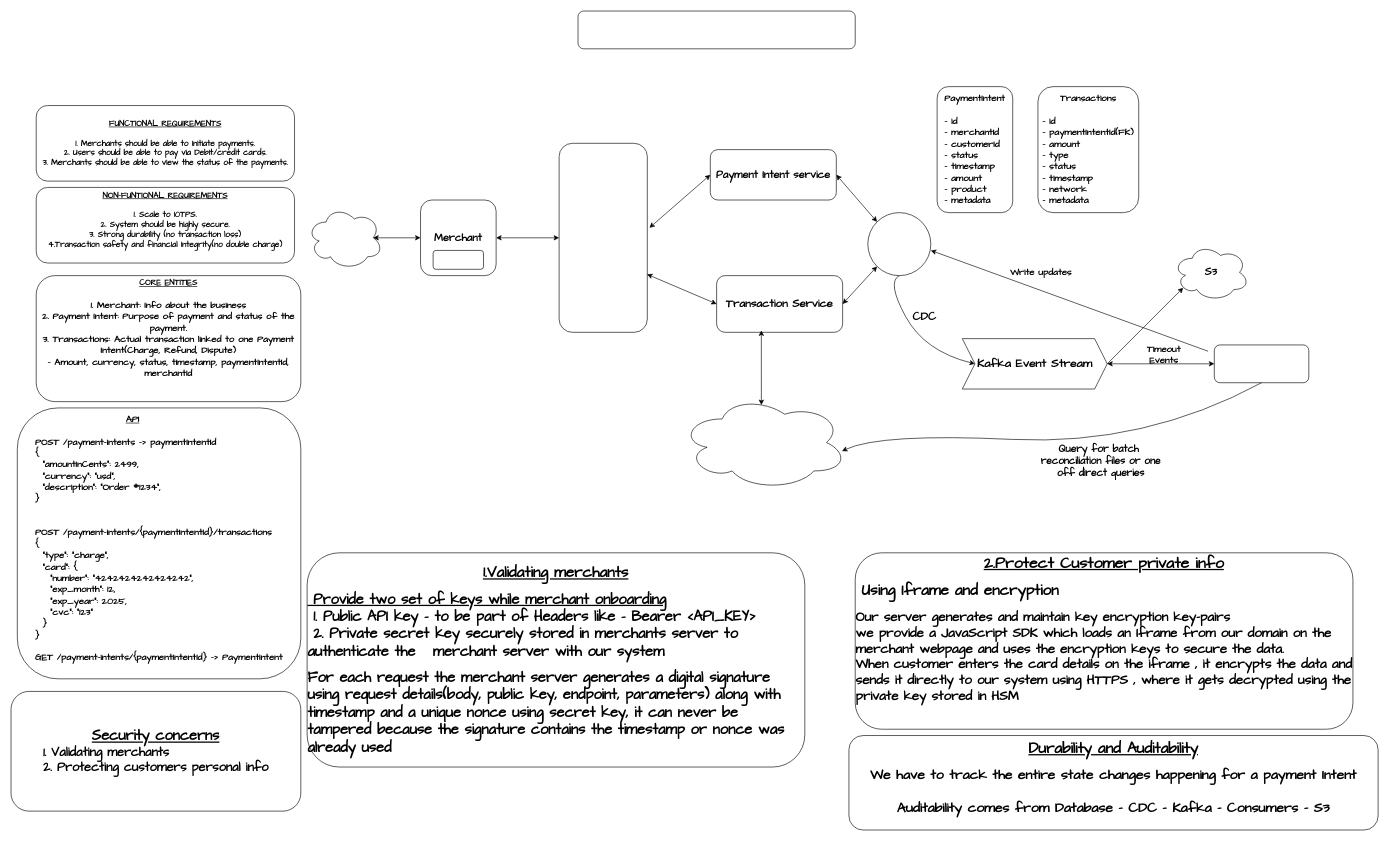
The diagram is 1389 pixels wide and 841 high, and some of its shapes have lost their labels. Here are the shapes that lost their labels. From the top down, the centre of each, then its label:
At point 716,29: "PAYMENT SYSTEM".
At point 344,237: "Customer".
At point 602,237: "API GATEWAY Authentication".
At point 899,244: "Database (Postgres)".
At point 458,259: "IFrame".
At point 1261,363: "Reconciliation Service".
At point 763,442: "External Payment network (Visa, Mastercard etc)".
